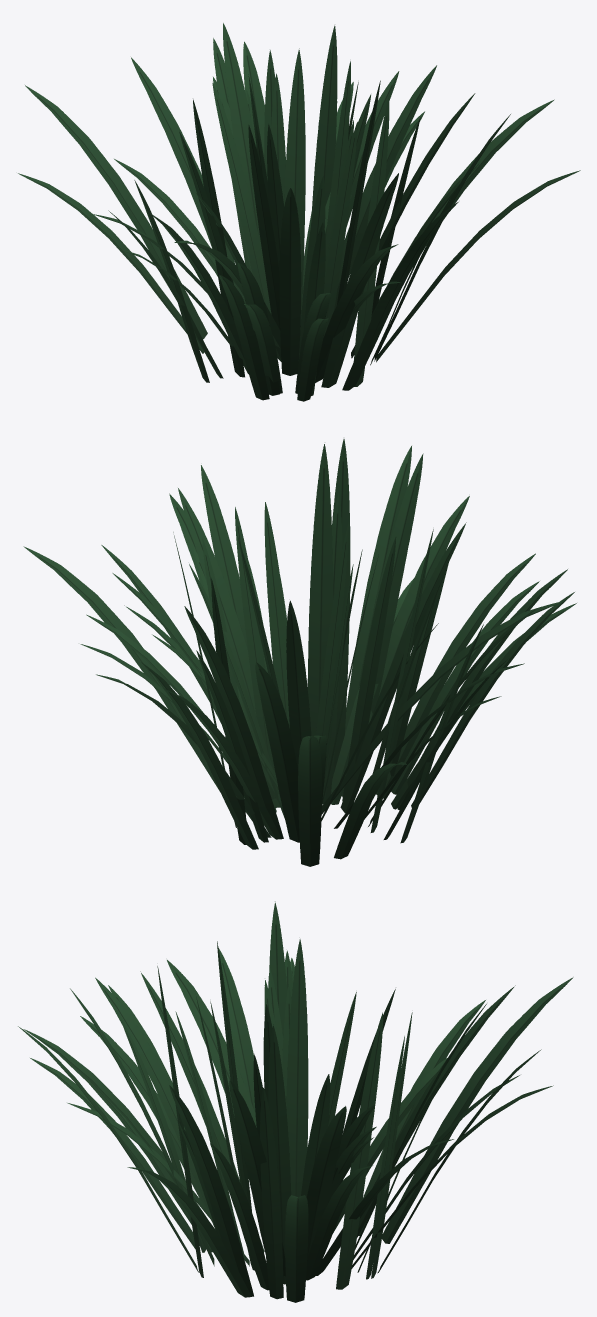
File: ophiopogon-japonicus.glb
The picture shows the model from 3 angles, top to bottom: view 1: azimuth 30°, elevation 25°; view 2: azimuth 150°, elevation 25°; view 3: azimuth 270°, elevation 25°; orthographic projection. The views are drawn at different scales.
Parts seen in each view (by area): view 1: folhas; view 2: folhas; view 3: folhas.
Boxes of the visible parts, x1,y1,x2,y2 form: folhas: (18, 23, 580, 401); folhas: (23, 439, 576, 866); folhas: (18, 901, 573, 1302).
Size of the model in its own units: 0.299 by 0.2 by 0.3.
Materials: 1 (1 with a texture image).
